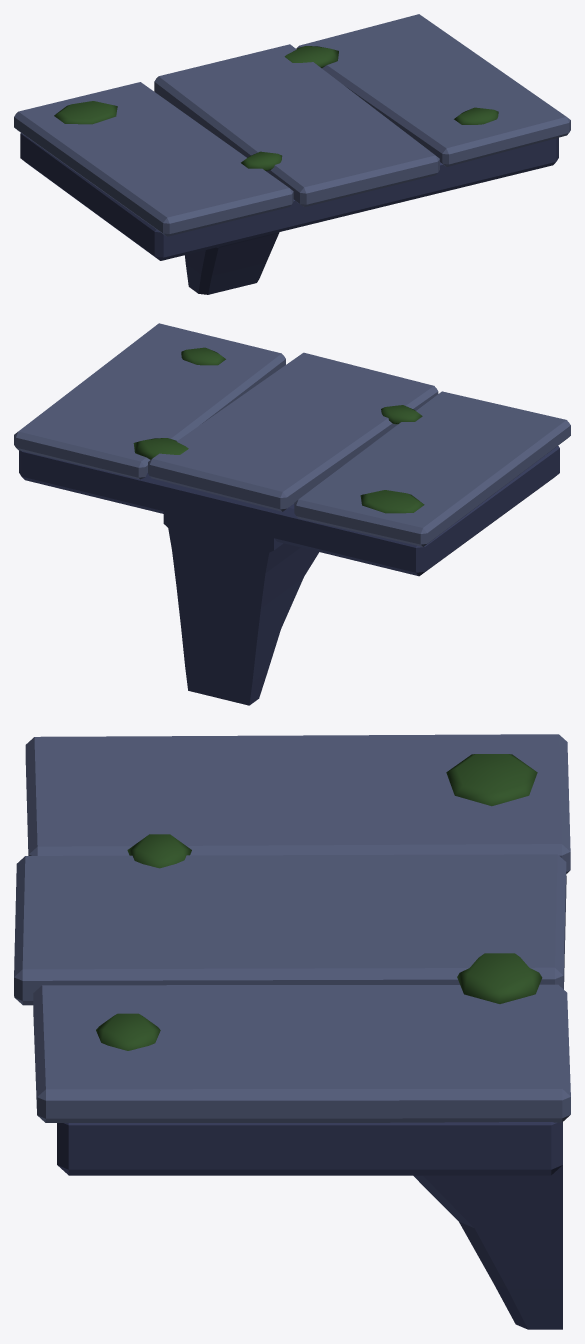
Rendered from corbel_ledge.glb.
3 views of the same model, one above another, from view 1: azimuth 30°, elevation 25°; view 2: azimuth 150°, elevation 25°; view 3: azimuth 270°, elevation 25° (orthographic). The views are drawn at different scales.
Visible parts, largest first — view 1: flagstone_slab, corbel_brackets, moss_clumps; view 2: flagstone_slab, corbel_brackets, moss_clumps; view 3: flagstone_slab, corbel_brackets, moss_clumps.
Boxes of the visible parts, bbox=[...] form: flagstone_slab: bbox=[14, 14, 570, 260]; corbel_brackets: bbox=[185, 232, 279, 294]; moss_clumps: bbox=[54, 46, 498, 170]; flagstone_slab: bbox=[14, 323, 570, 576]; corbel_brackets: bbox=[163, 506, 319, 705]; moss_clumps: bbox=[133, 347, 424, 513]; flagstone_slab: bbox=[14, 734, 570, 1175]; corbel_brackets: bbox=[413, 1165, 562, 1329]; moss_clumps: bbox=[96, 754, 542, 1050].
Bounding box in the file's own units: 1.09 × 0.5544 × 0.7042.
